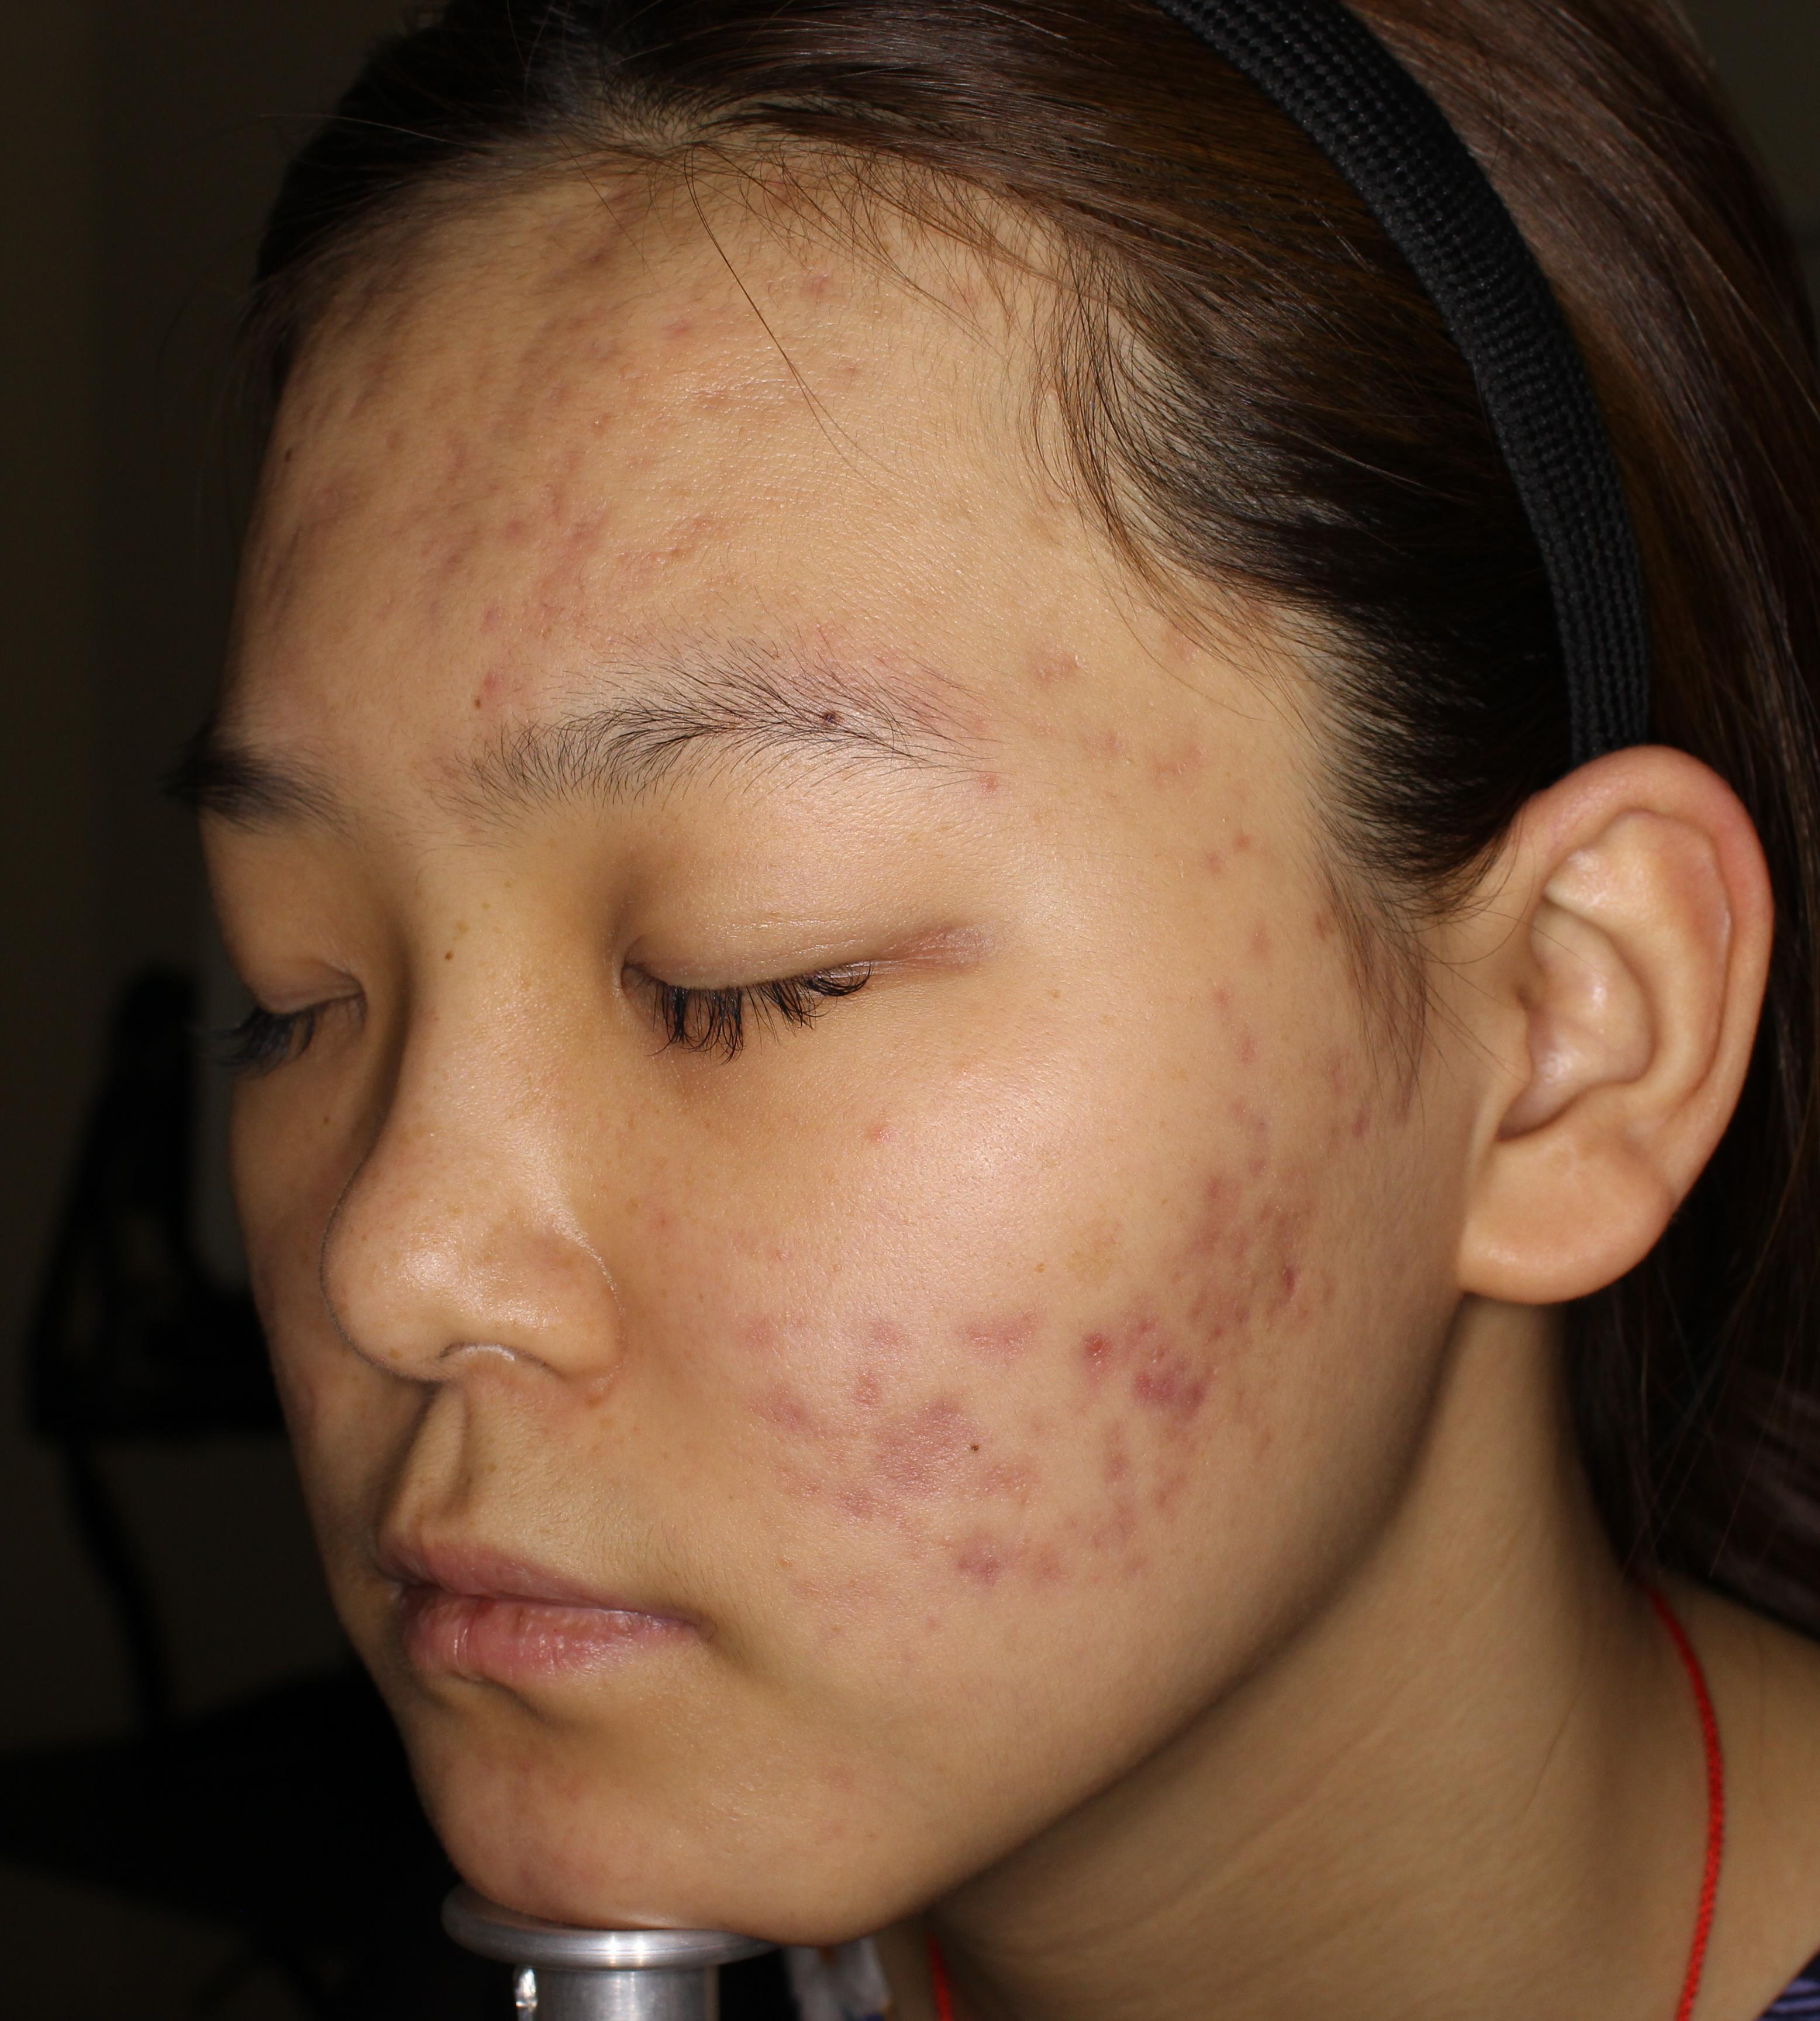fore: (516, 500, 643, 608), (1260, 1196, 1337, 1329), (719, 1392, 843, 1468), (1123, 1334, 1207, 1436), (1175, 1168, 1256, 1266), (889, 1387, 964, 1487), (1288, 859, 1354, 962), (924, 1517, 1028, 1580), (964, 1280, 1054, 1352), (1068, 1320, 1117, 1396)
